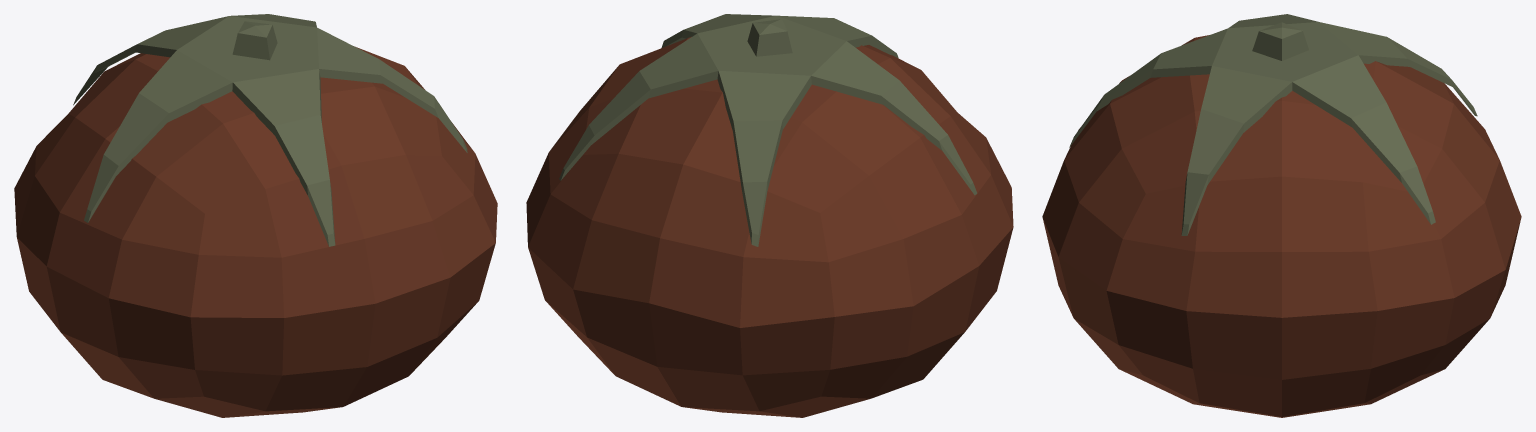
File: tomato_crop.gltf
3 renders of one model, left to right at view 1: azimuth 30°, elevation 25°; view 2: azimuth 150°, elevation 25°; view 3: azimuth 270°, elevation 25°, orthographic.
Parts seen in each view (by area): view 1: tomato_crop; view 2: tomato_crop; view 3: tomato_crop.
Boxes of the visible parts, bbox=[...] form: tomato_crop: bbox=[14, 14, 497, 417]; tomato_crop: bbox=[526, 14, 1013, 417]; tomato_crop: bbox=[1042, 14, 1521, 417].
Bounding box in the file's own units: 0.178 × 0.1481 × 0.178.
Materials: 1 (1 with a texture image).
